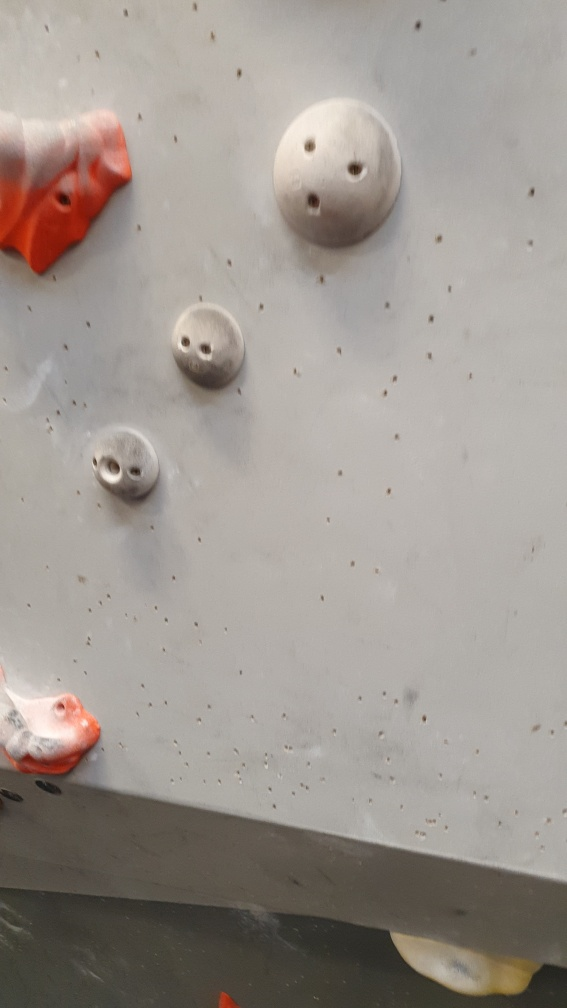Jug: (1, 92, 142, 286), (1, 669, 105, 788)
Sloper: (270, 92, 410, 251), (171, 300, 251, 394), (87, 423, 161, 504)
